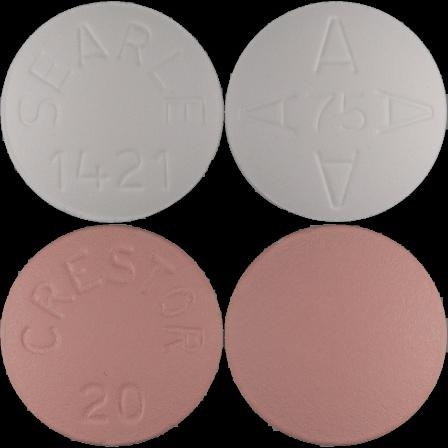49999-987: (0, 0, 224, 224)
